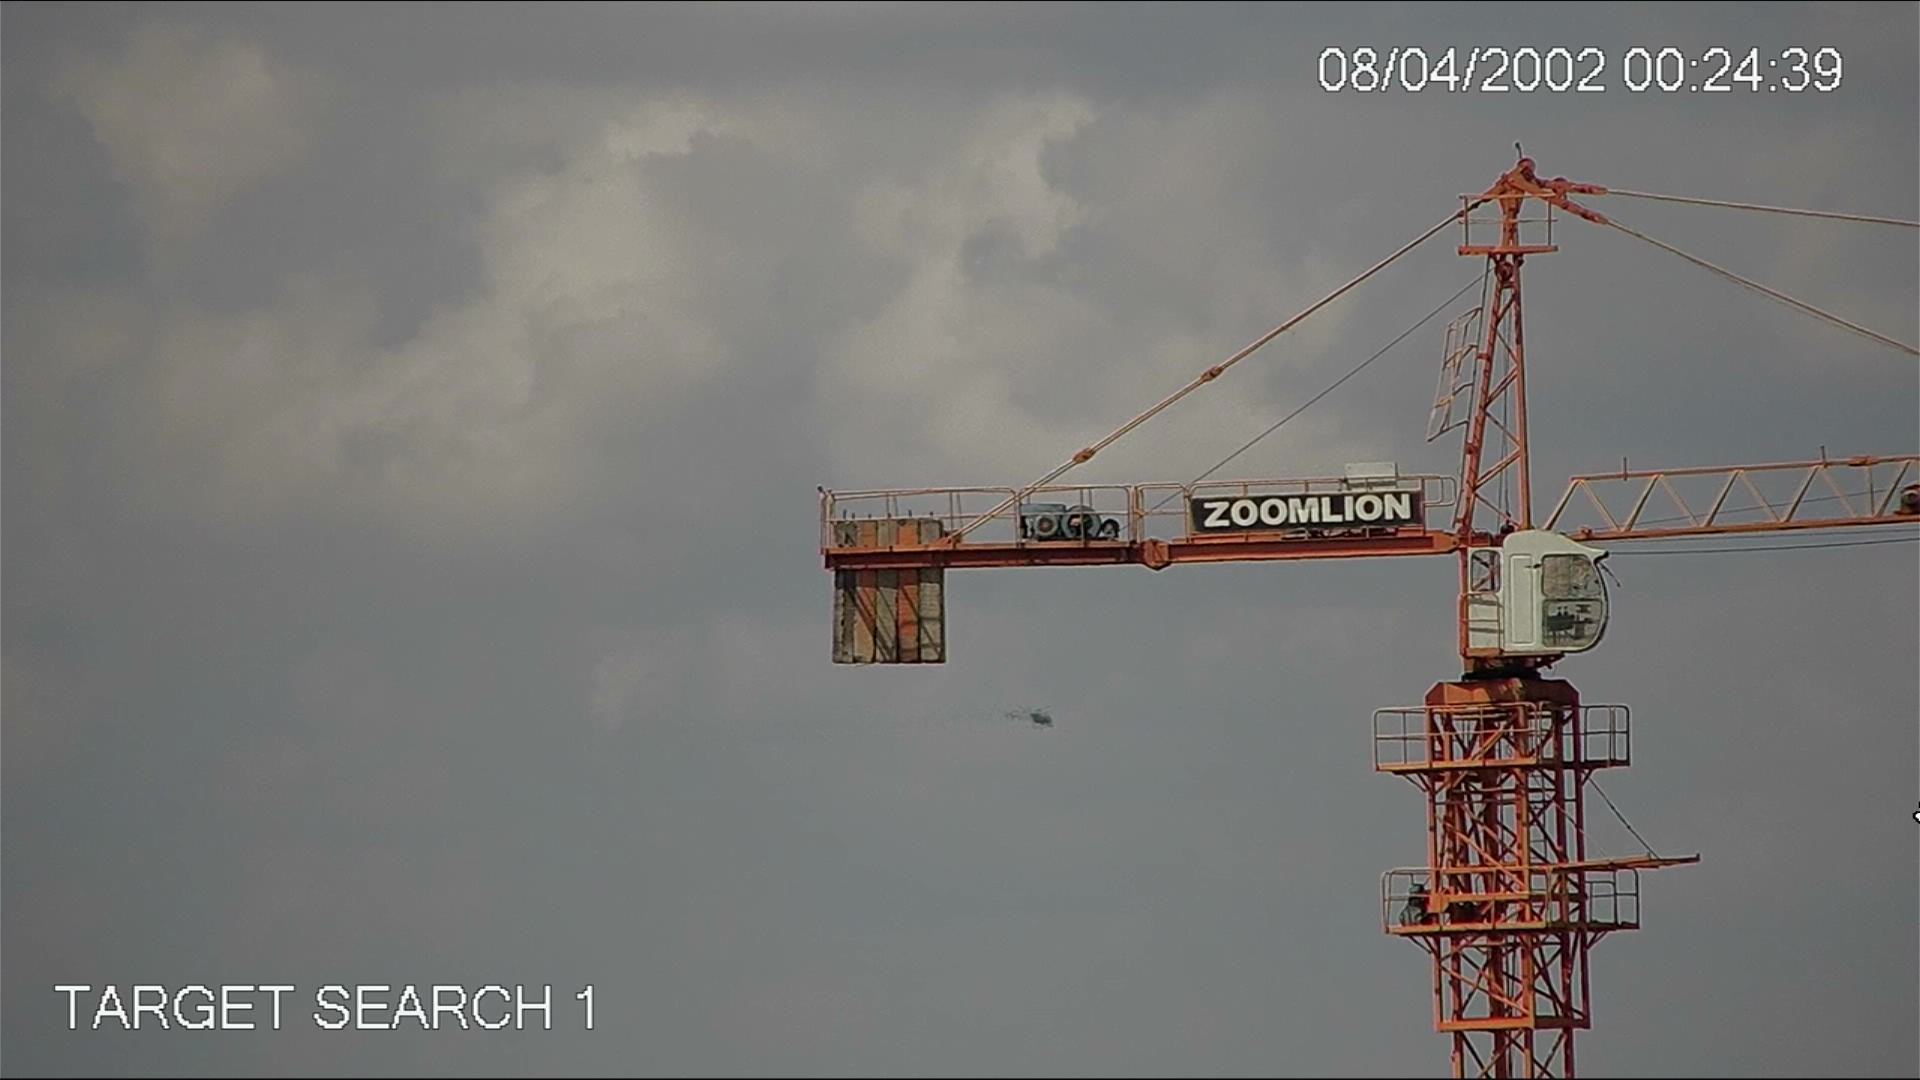SU_30: (998, 698, 1062, 732)
